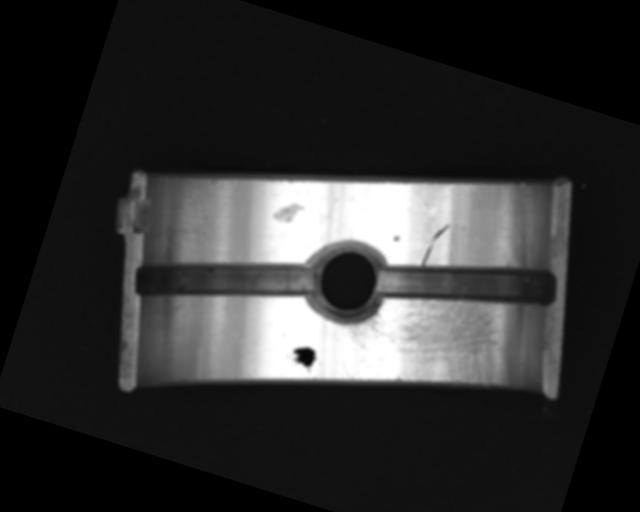blot: (284, 341, 320, 373)
bruise: (271, 197, 304, 228), (392, 233, 400, 242)
gap: (372, 221, 562, 345), (131, 218, 319, 342)
hole: (297, 232, 395, 331)
nick: (419, 218, 450, 270)
scratch: (328, 260, 533, 422)
